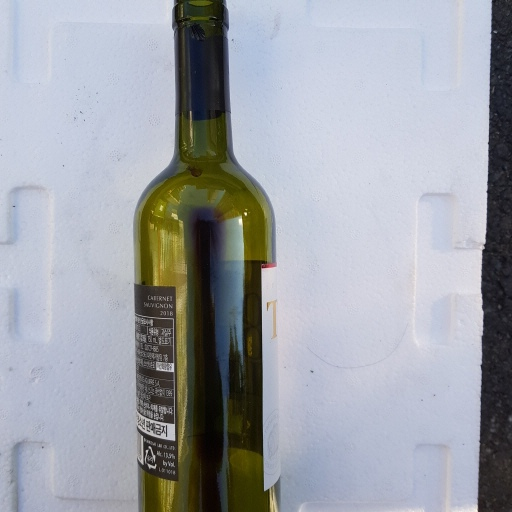Glass_2: (130, 1, 284, 512)
